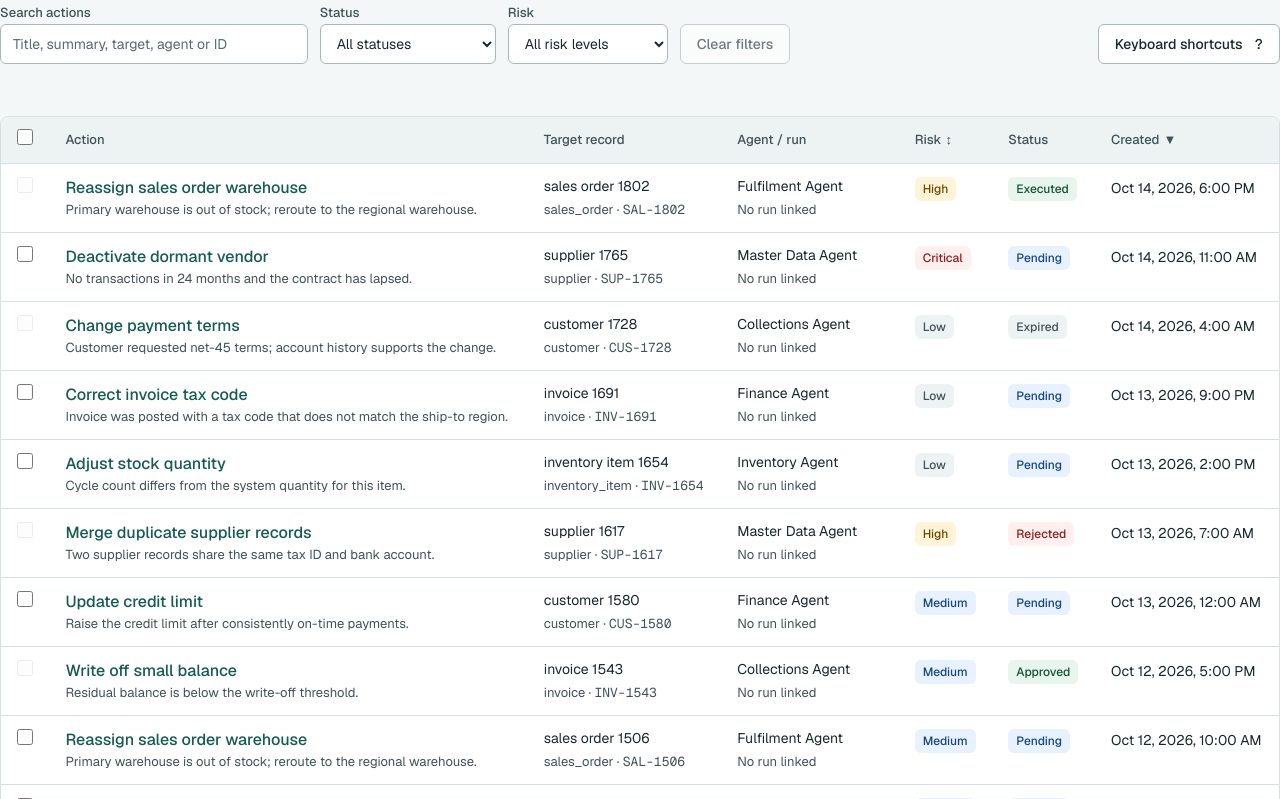
Test case: PendingActionsQueue › clears the selection on request and enables bulk decisions
Step 1. Click the checkbox named "Select all pending actions on this page" → point(25, 137), box [17, 129, 33, 145]
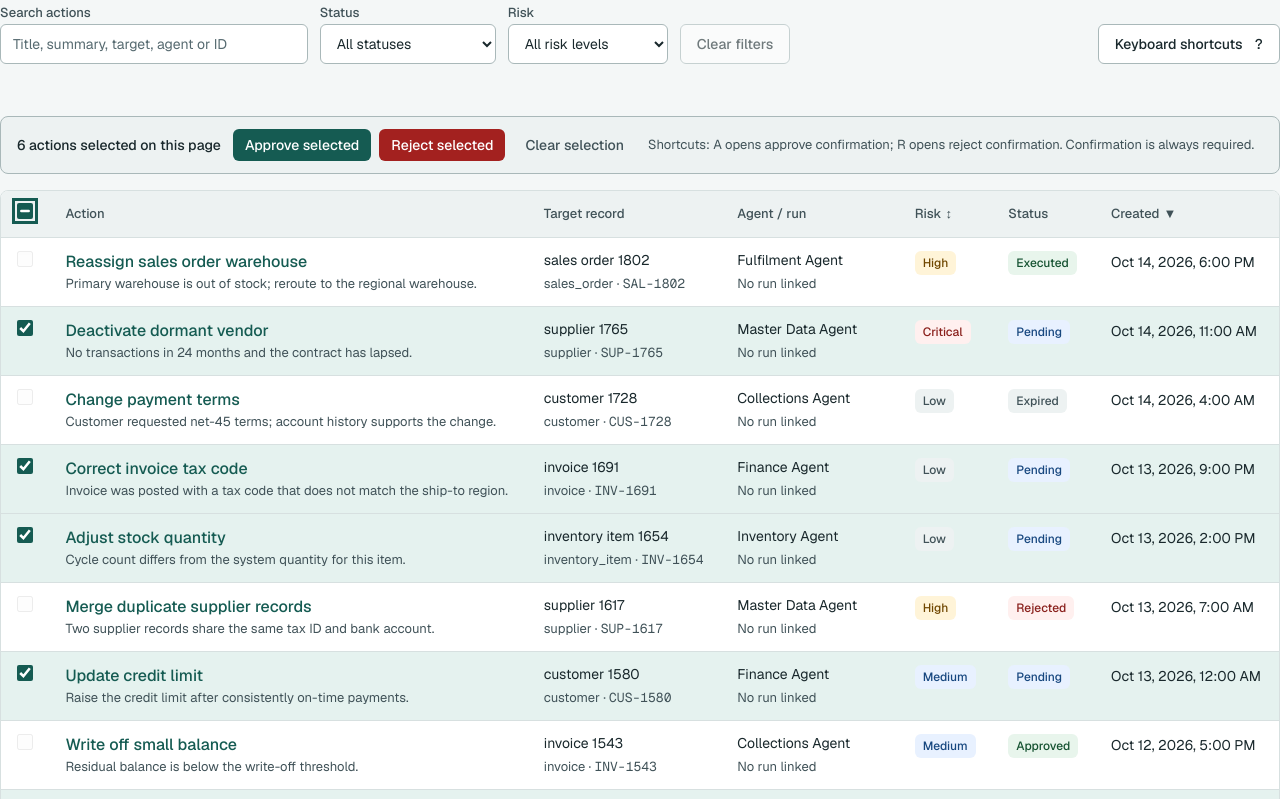
Check: the text "6 actions selected on this page" is shown, box [17, 135, 221, 155]
Check: the button "Approve selected" is enabled, box [233, 129, 371, 161]
Step 2. Click the button "Clear selection" → point(575, 145), box [513, 129, 636, 161]
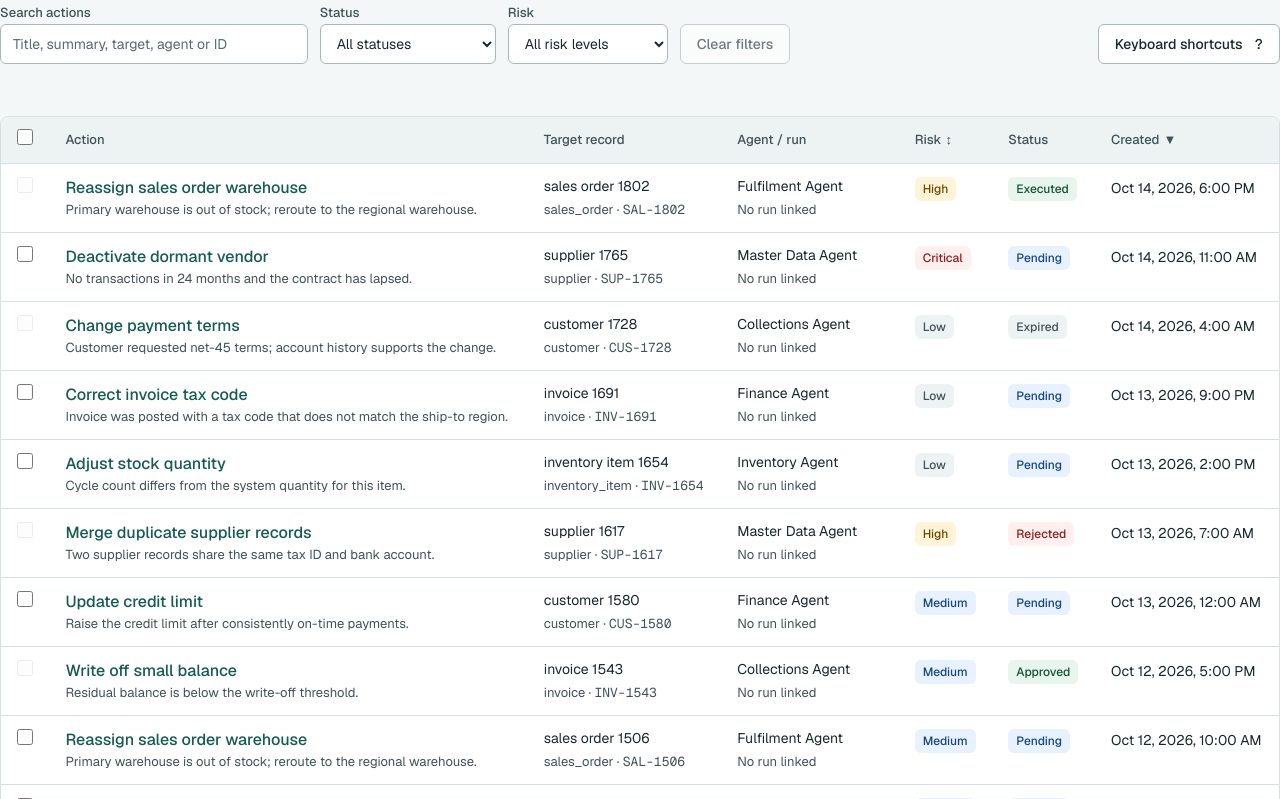
Check: the text "selected on this page" is gone
